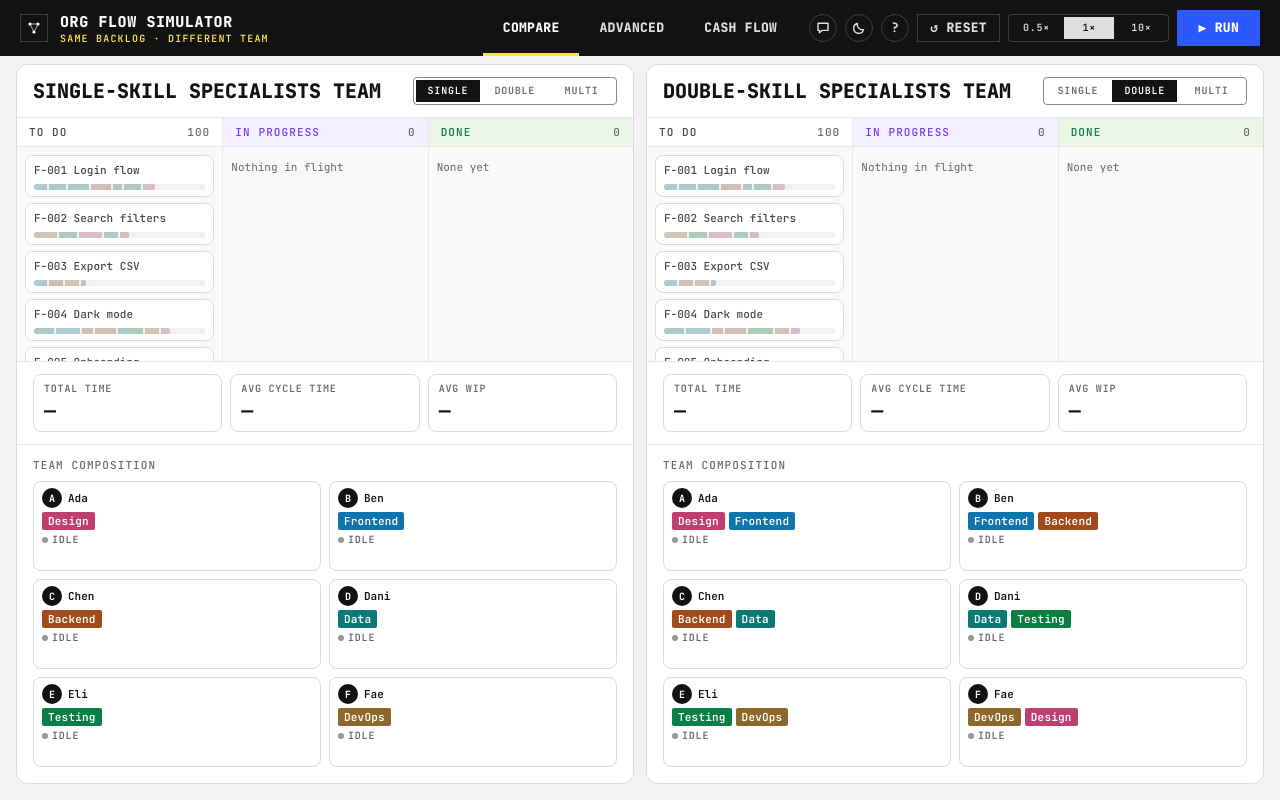
Test case: feat-019 Příklad 5: nastavení AI v Simulatoru › mód {}: tři kliknutí přepnou jednotku 2× → 5× → „AI“, ostatní zůstanou „AI“, menu se neotevře
Click the tab "Advanced" at (632, 28), box [580,0,684,56]
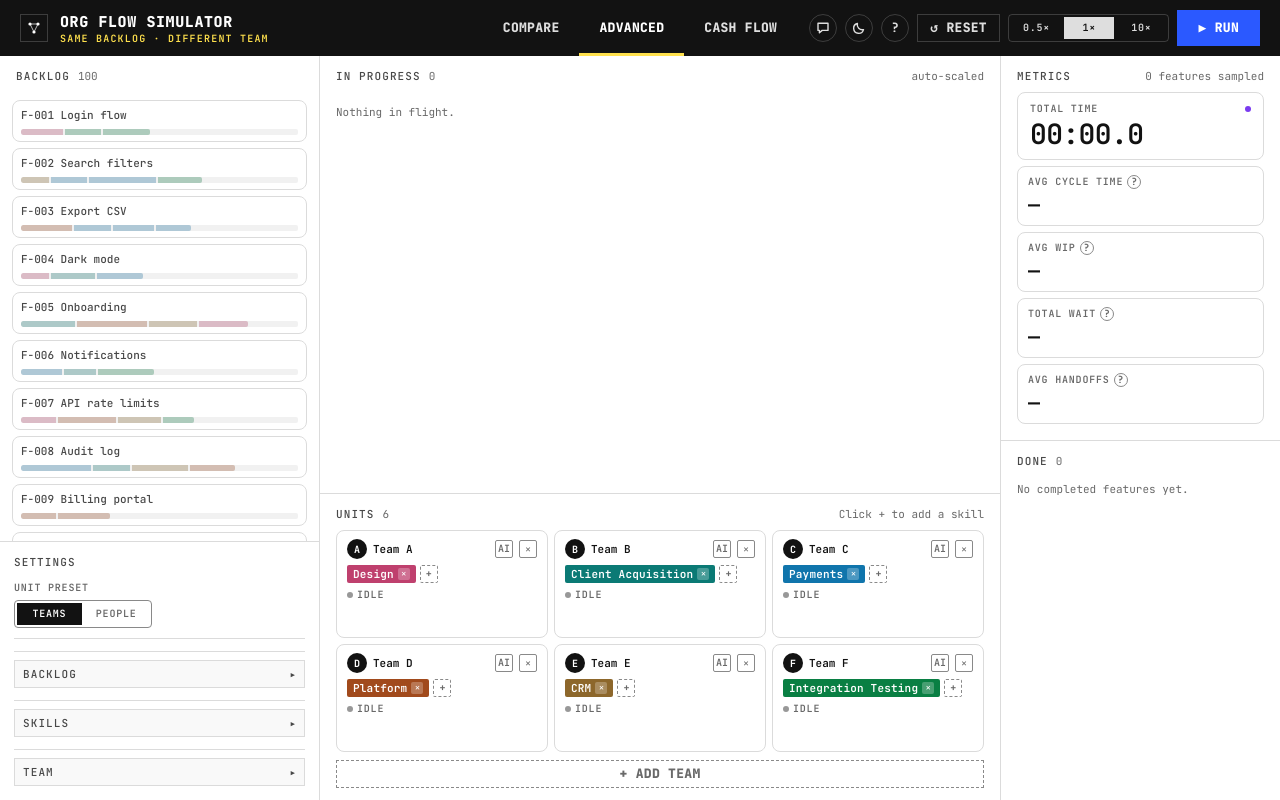
Click the button with aria-label "AI speed-up" at (722, 549), box [713,540,731,558]
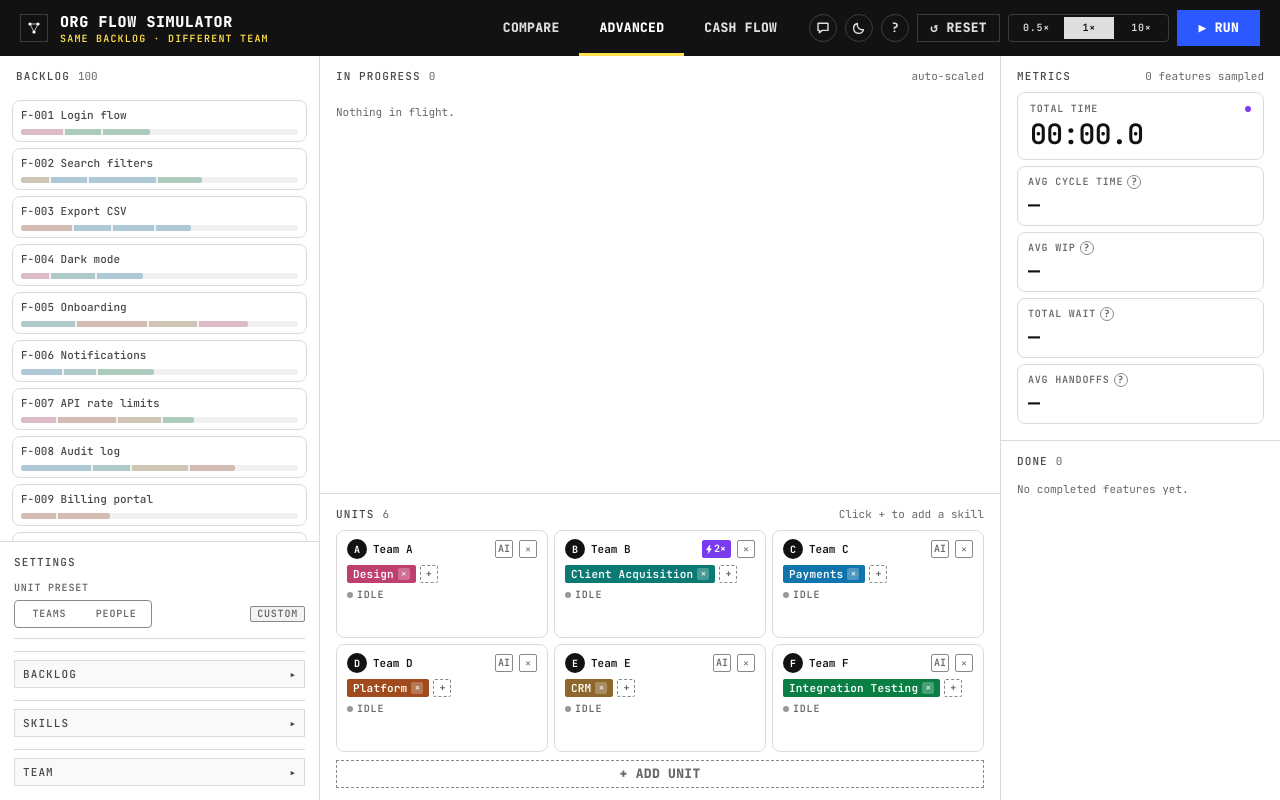
expect the button with aria-label "AI speed-up" reads "AI": met, box [495,540,513,558]
expect the button named "AI speed-up" reads "2×": met
Click the button named "AI speed-up" at (716, 549), box [702,540,731,558]
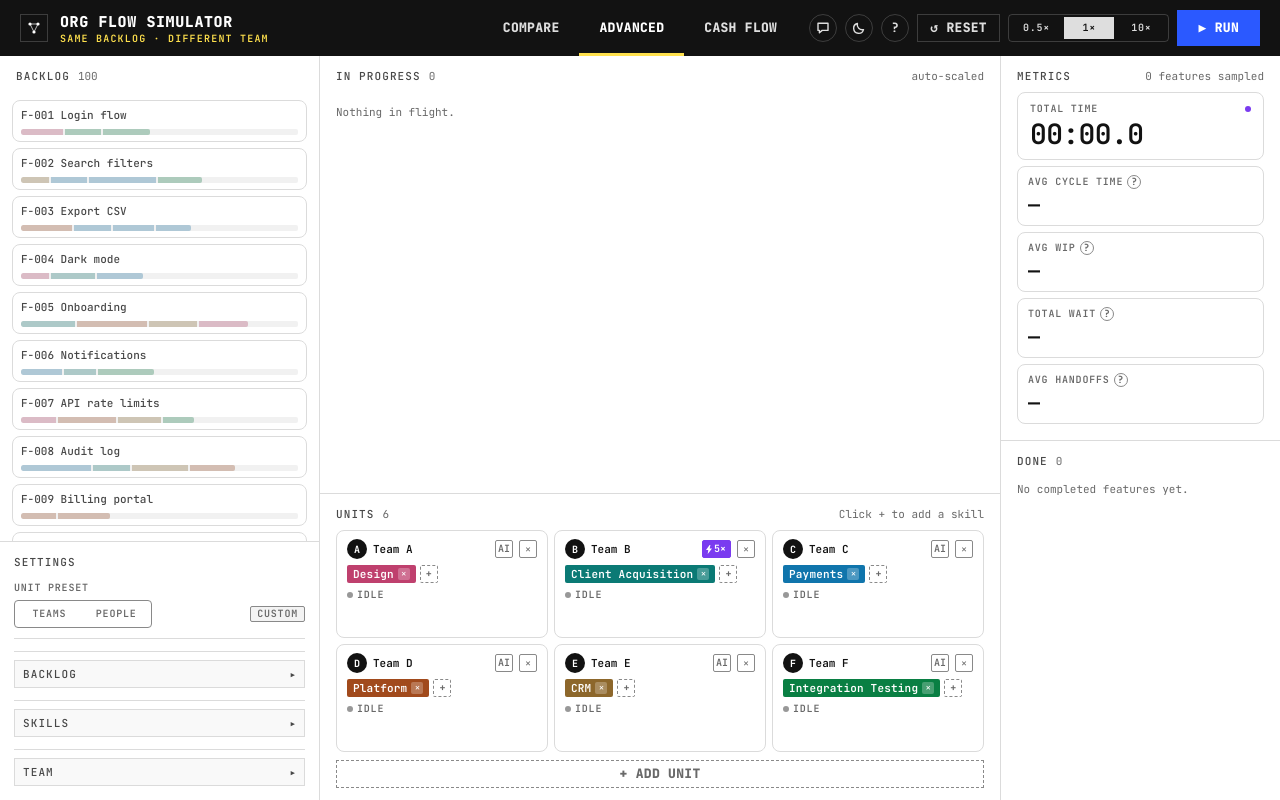
expect the button with aria-label "AI speed-up" reads "AI": met, box [495,540,513,558]
expect the button named "AI speed-up" reads "5×": met
Click the button named "AI speed-up" at (716, 549), box [702,540,731,558]
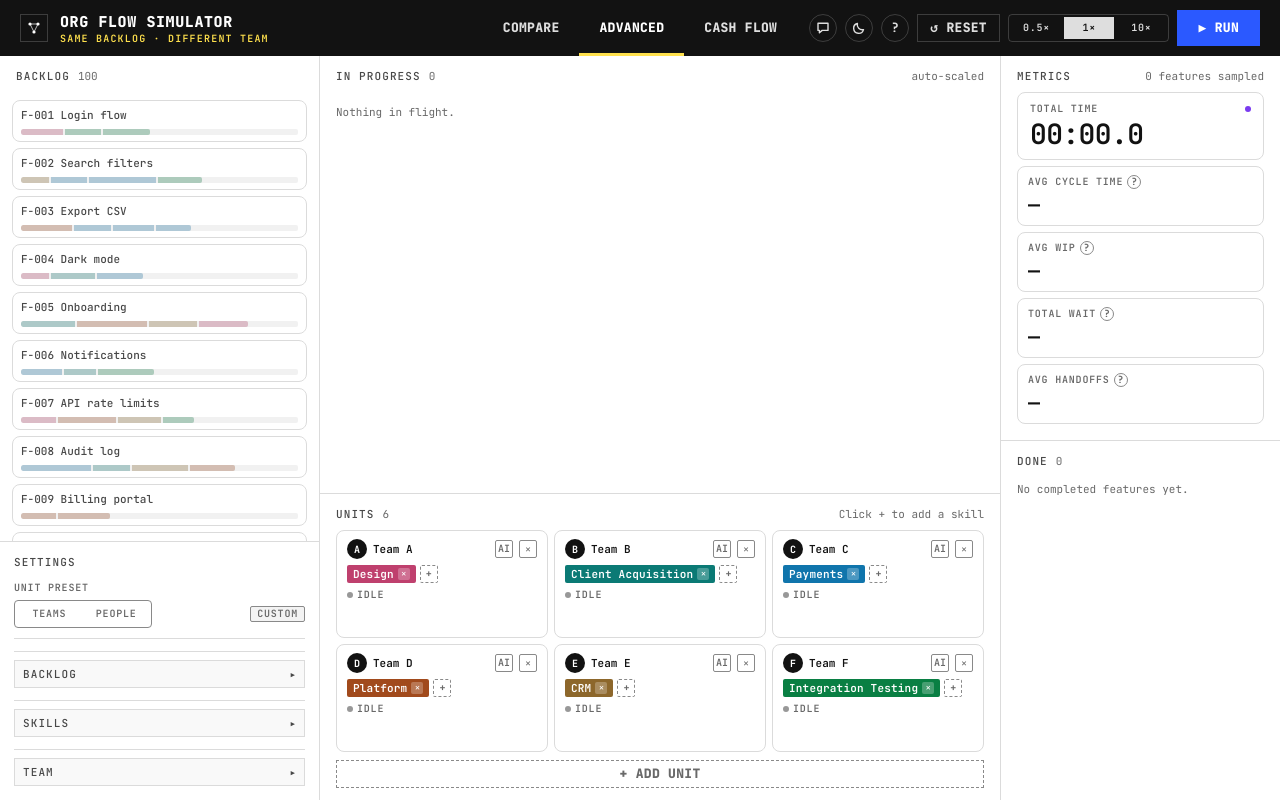
expect the button with aria-label "AI speed-up" reads "AI": met, box [713,540,731,558]
